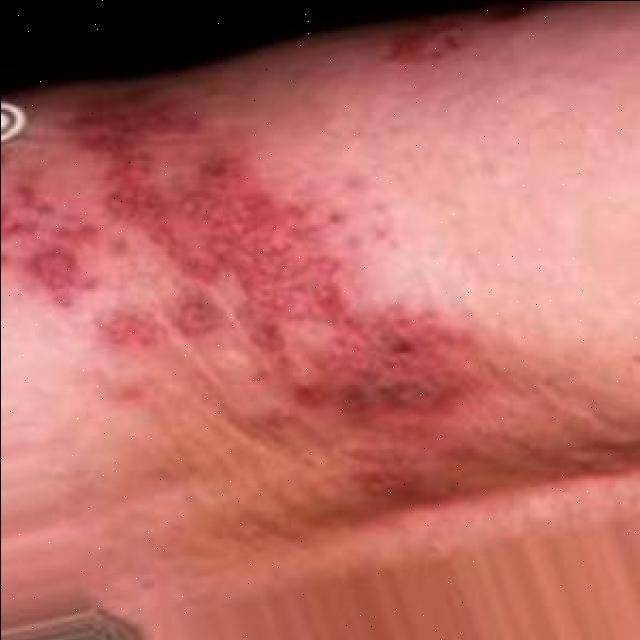Shingles: (22, 88, 444, 421)
